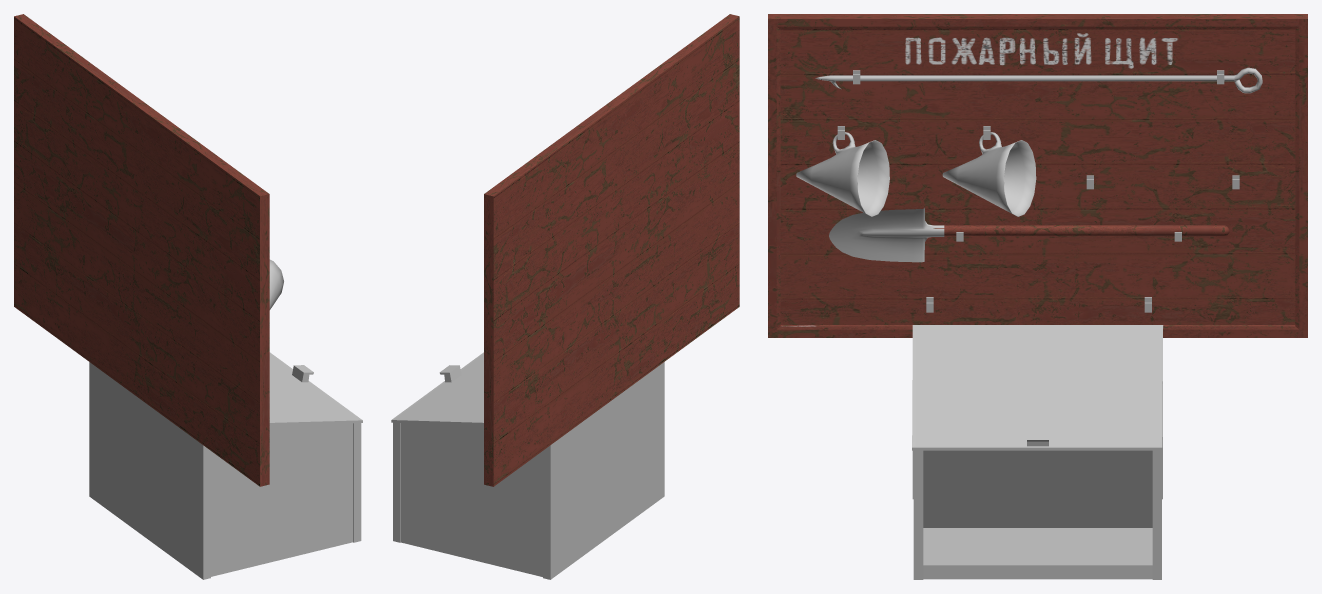
The model's file is pojarniy_shit.fbx.
3 renders of one model, left to right at view 1: azimuth 30°, elevation 25°; view 2: azimuth 150°, elevation 25°; view 3: azimuth 270°, elevation 25°, orthographic. The views are drawn at different scales.
Visible parts, largest first — view 1: Plane, Cube.005, Circle.002; view 2: Plane, Cube.005; view 3: Plane, Cube.005, Plane.001, Circle.003, Circle.002, Circle.001, Circle.
Boxes of the visible parts, left/top/right/bottom form: Plane: left=14, top=14, right=269, bottom=486; Cube.005: left=89, top=352, right=362, bottom=579; Circle.002: left=269, top=259, right=283, bottom=309; Plane: left=484, top=14, right=739, bottom=486; Cube.005: left=391, top=352, right=664, bottom=579; Plane: left=768, top=14, right=1307, bottom=337; Cube.005: left=912, top=325, right=1163, bottom=579; Plane.001: left=829, top=208, right=944, bottom=262; Circle.003: left=942, top=132, right=1036, bottom=216; Circle.002: left=796, top=132, right=889, bottom=216; Circle.001: left=932, top=225, right=1229, bottom=236; Circle: left=815, top=67, right=1262, bottom=93.
Bounding box in the file's own units: 513 × 1237 × 1271.
